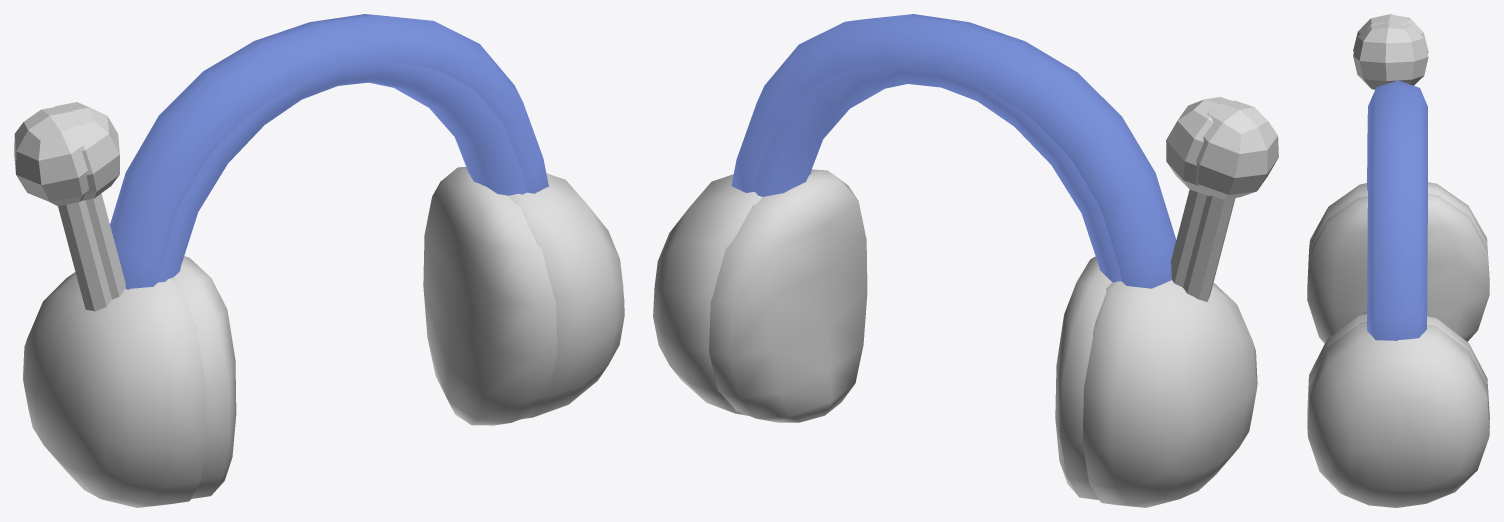
Rendered from headphones.glb.
The picture shows the model from 3 angles, left to right: view 1: azimuth 30°, elevation 25°; view 2: azimuth 150°, elevation 25°; view 3: azimuth 270°, elevation 25°; orthographic projection. The views are drawn at different scales.
Visible parts, largest first — view 1: Sphere.003, Sphere.001, Sphere.005, Sphere.006, Sphere.004, Sphere.002; view 2: Sphere.003, Sphere.001, Sphere.005, Sphere.006, Sphere.004, Sphere.002; view 3: Sphere.003, Sphere.005, Sphere.001, Sphere.002, Sphere.004.
Boxes of the visible parts, box(x1,y1,x2,y2) form: Sphere.003: box(23, 173, 624, 507); Sphere.001: box(173, 167, 557, 498); Sphere.005: box(110, 14, 548, 289); Sphere.006: box(158, 62, 526, 282); Sphere.004: box(14, 105, 111, 311); Sphere.002: box(55, 102, 125, 299); Sphere.003: box(653, 174, 1257, 507); Sphere.001: box(709, 169, 1111, 500); Sphere.005: box(731, 14, 1176, 288); Sphere.006: box(754, 64, 1121, 282); Sphere.004: box(1183, 100, 1278, 301); Sphere.002: box(1166, 97, 1231, 287); Sphere.003: box(1307, 182, 1489, 507); Sphere.005: box(1367, 80, 1427, 340); Sphere.001: box(1307, 193, 1489, 420); Sphere.002: box(1353, 19, 1428, 89); Sphere.004: box(1353, 14, 1428, 53).
Size of the model in its own units: 2.22 by 1.55 by 0.7759.
